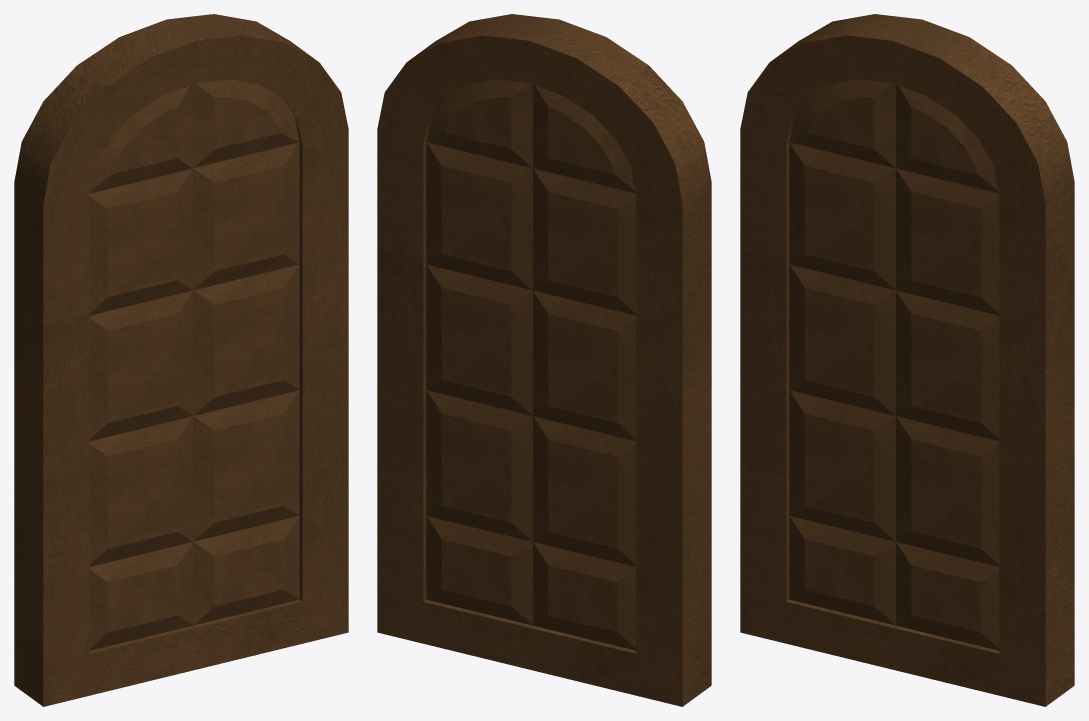
The model's file is HeistWooden_MechaDoor.fbx.
3 renders of one model, left to right at view 1: azimuth 30°, elevation 25°; view 2: azimuth 150°, elevation 25°; view 3: azimuth 330°, elevation 25°, orthographic.
Parts seen in each view (by area): view 1: HeistWooden_MechaDoor; view 2: HeistWooden_MechaDoor; view 3: HeistWooden_MechaDoor.
Boxes of the visible parts, x1,y1,x2,y2 form: HeistWooden_MechaDoor: [14, 14, 348, 706]; HeistWooden_MechaDoor: [377, 14, 711, 706]; HeistWooden_MechaDoor: [740, 14, 1074, 706].
Size of the model in its own units: 3.39 by 6.67 by 0.5621.
1 material, 1 textured.
